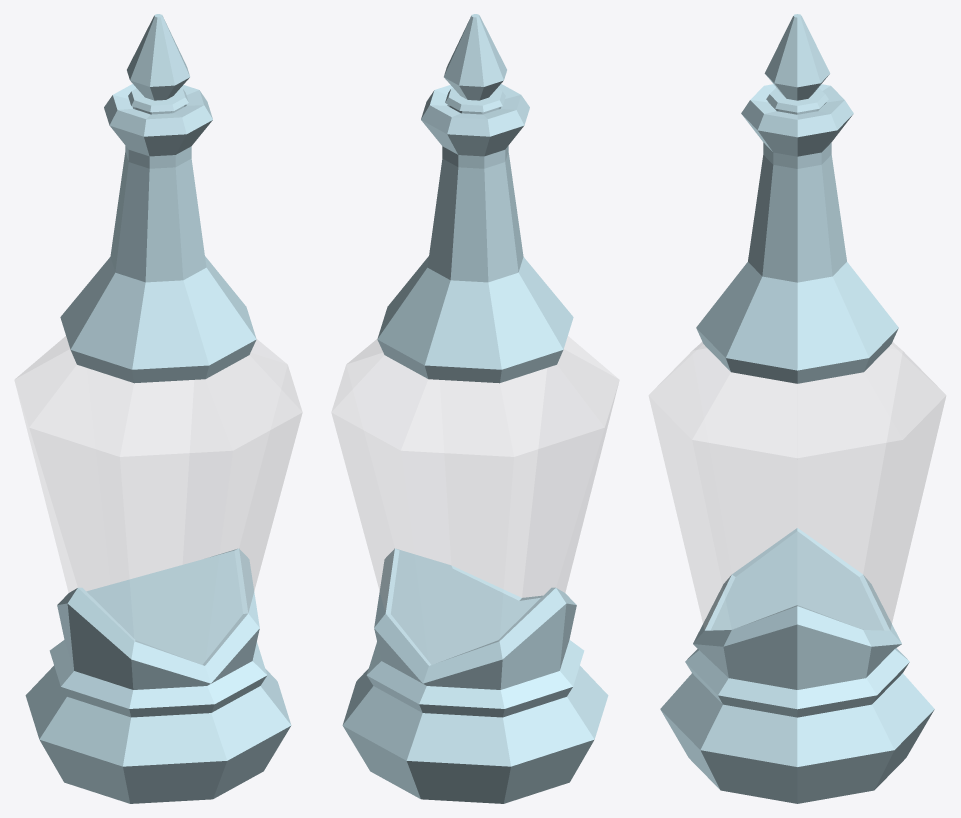
File: Type_02_Empty.fbx
3 renders of one model, left to right at view 1: azimuth 30°, elevation 25°; view 2: azimuth 150°, elevation 25°; view 3: azimuth 270°, elevation 25°, orthographic.
Parts seen in each view (by area): view 1: Type_02b_Bottle, Type_02b_Cork; view 2: Type_02b_Bottle, Type_02b_Cork; view 3: Type_02b_Bottle, Type_02b_Cork.
Part boxes in pixels (box(x1,y1,x2,y2)): Type_02b_Bottle: box(14, 84, 302, 803); Type_02b_Cork: box(127, 14, 189, 114); Type_02b_Bottle: box(331, 84, 619, 803); Type_02b_Cork: box(444, 14, 506, 114); Type_02b_Bottle: box(649, 84, 945, 803); Type_02b_Cork: box(764, 14, 830, 114).
Size of the model in its own units: 15 by 41.23 by 15.
